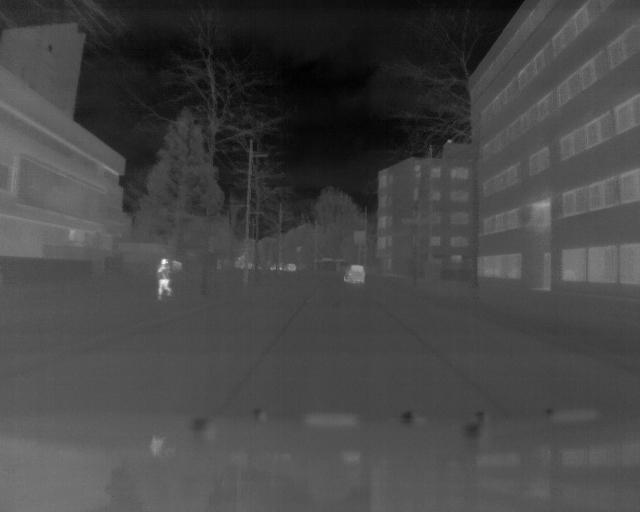car: (342, 264, 366, 285)
person: (156, 256, 174, 301)
